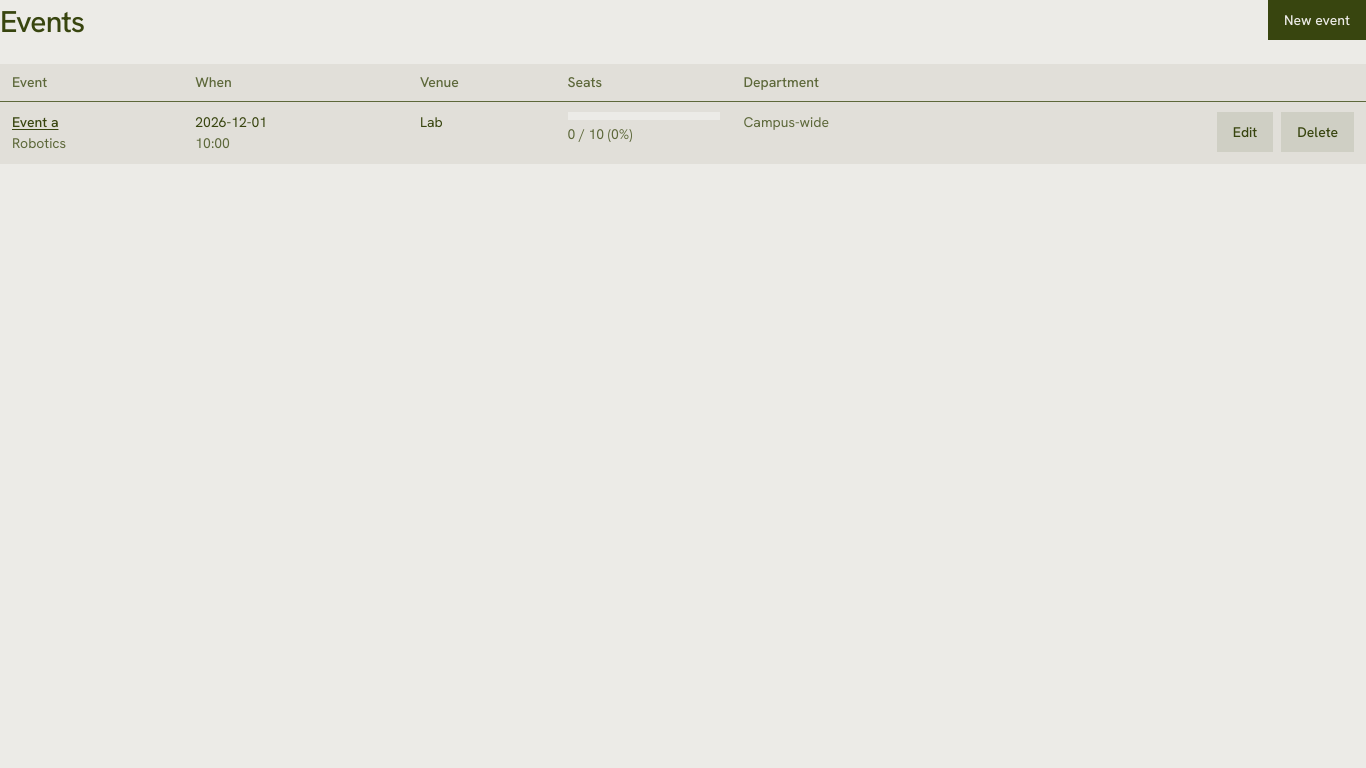
Test: the admin events page › deletes an event nobody registered for after one confirmation
Click the button with aria-label "Delete Event a".
click(1318, 132)  # box [1281, 112, 1354, 152]
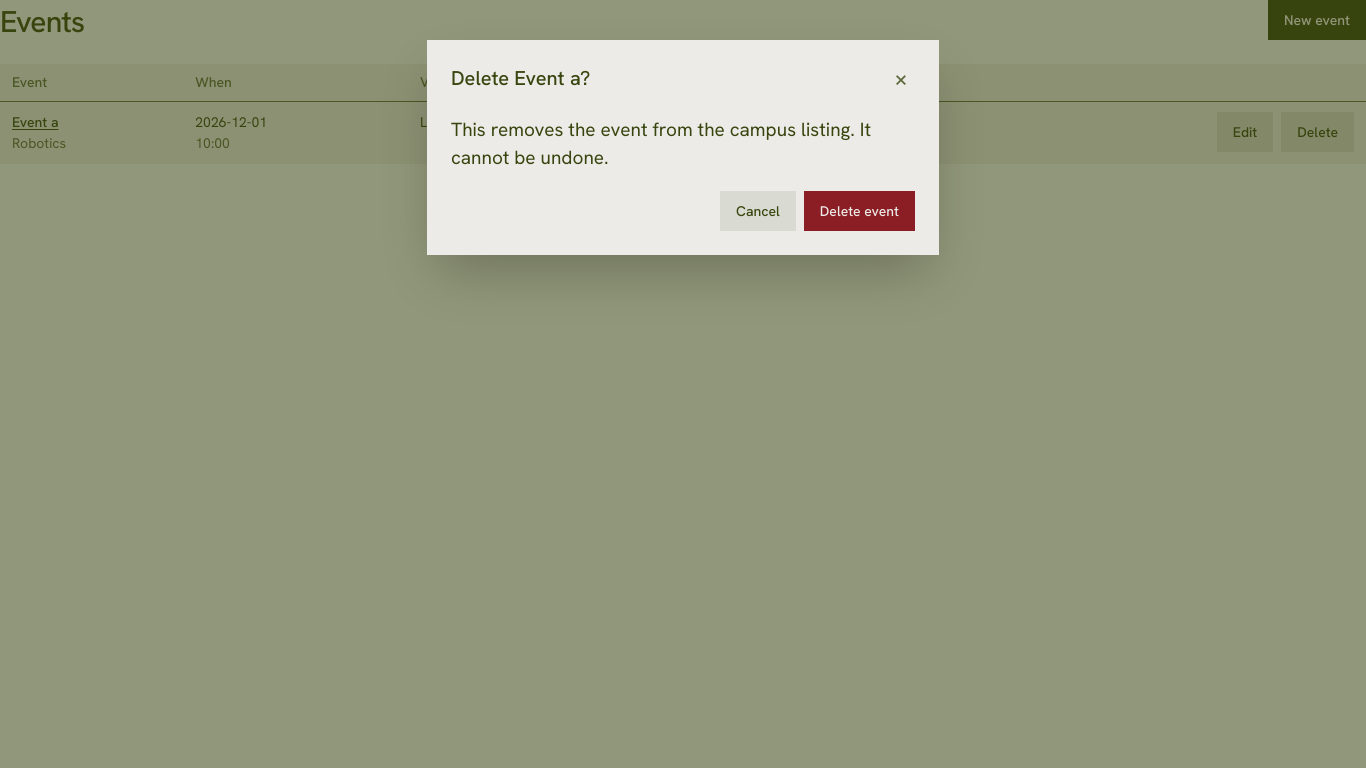
Click the button "Delete event".
click(859, 211)  # box [804, 191, 915, 231]
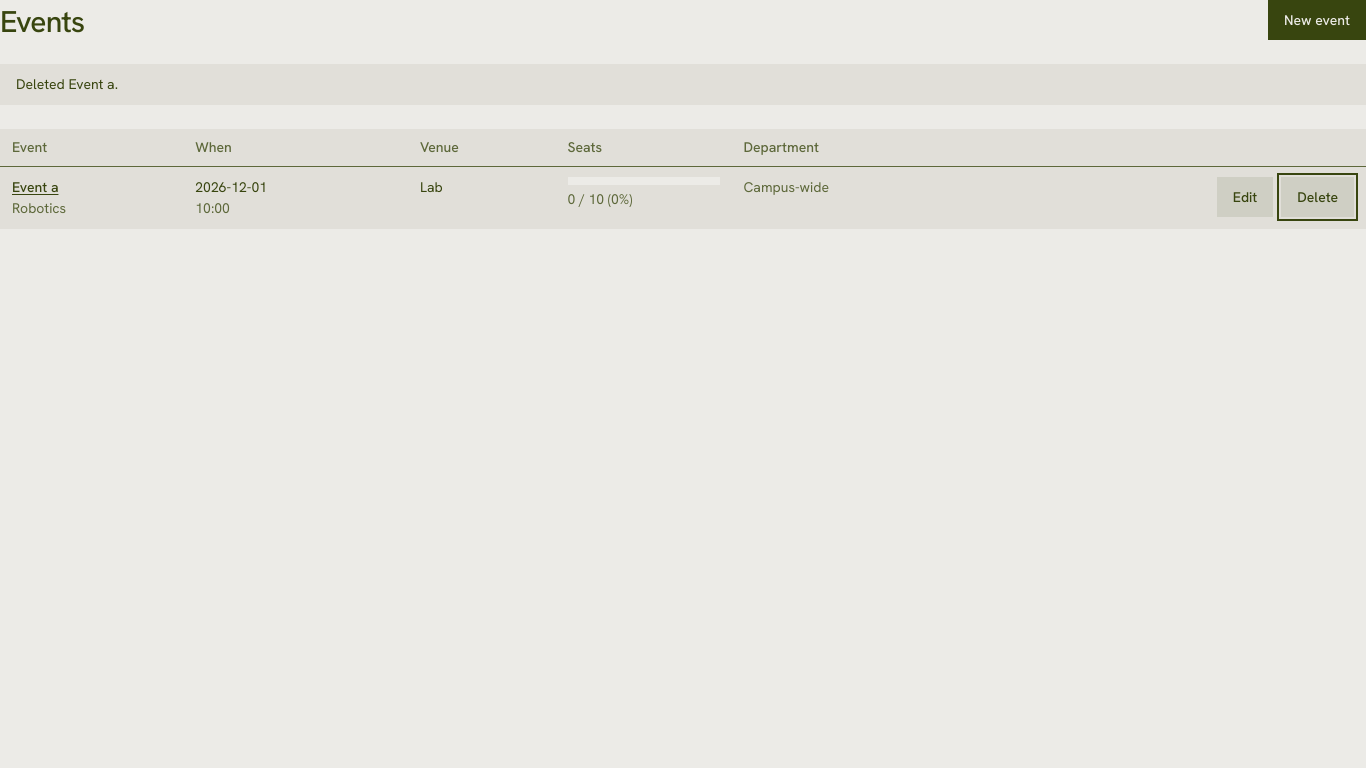
expect the text "Deleted Event a." is shown: met, box [0, 64, 1365, 105]
